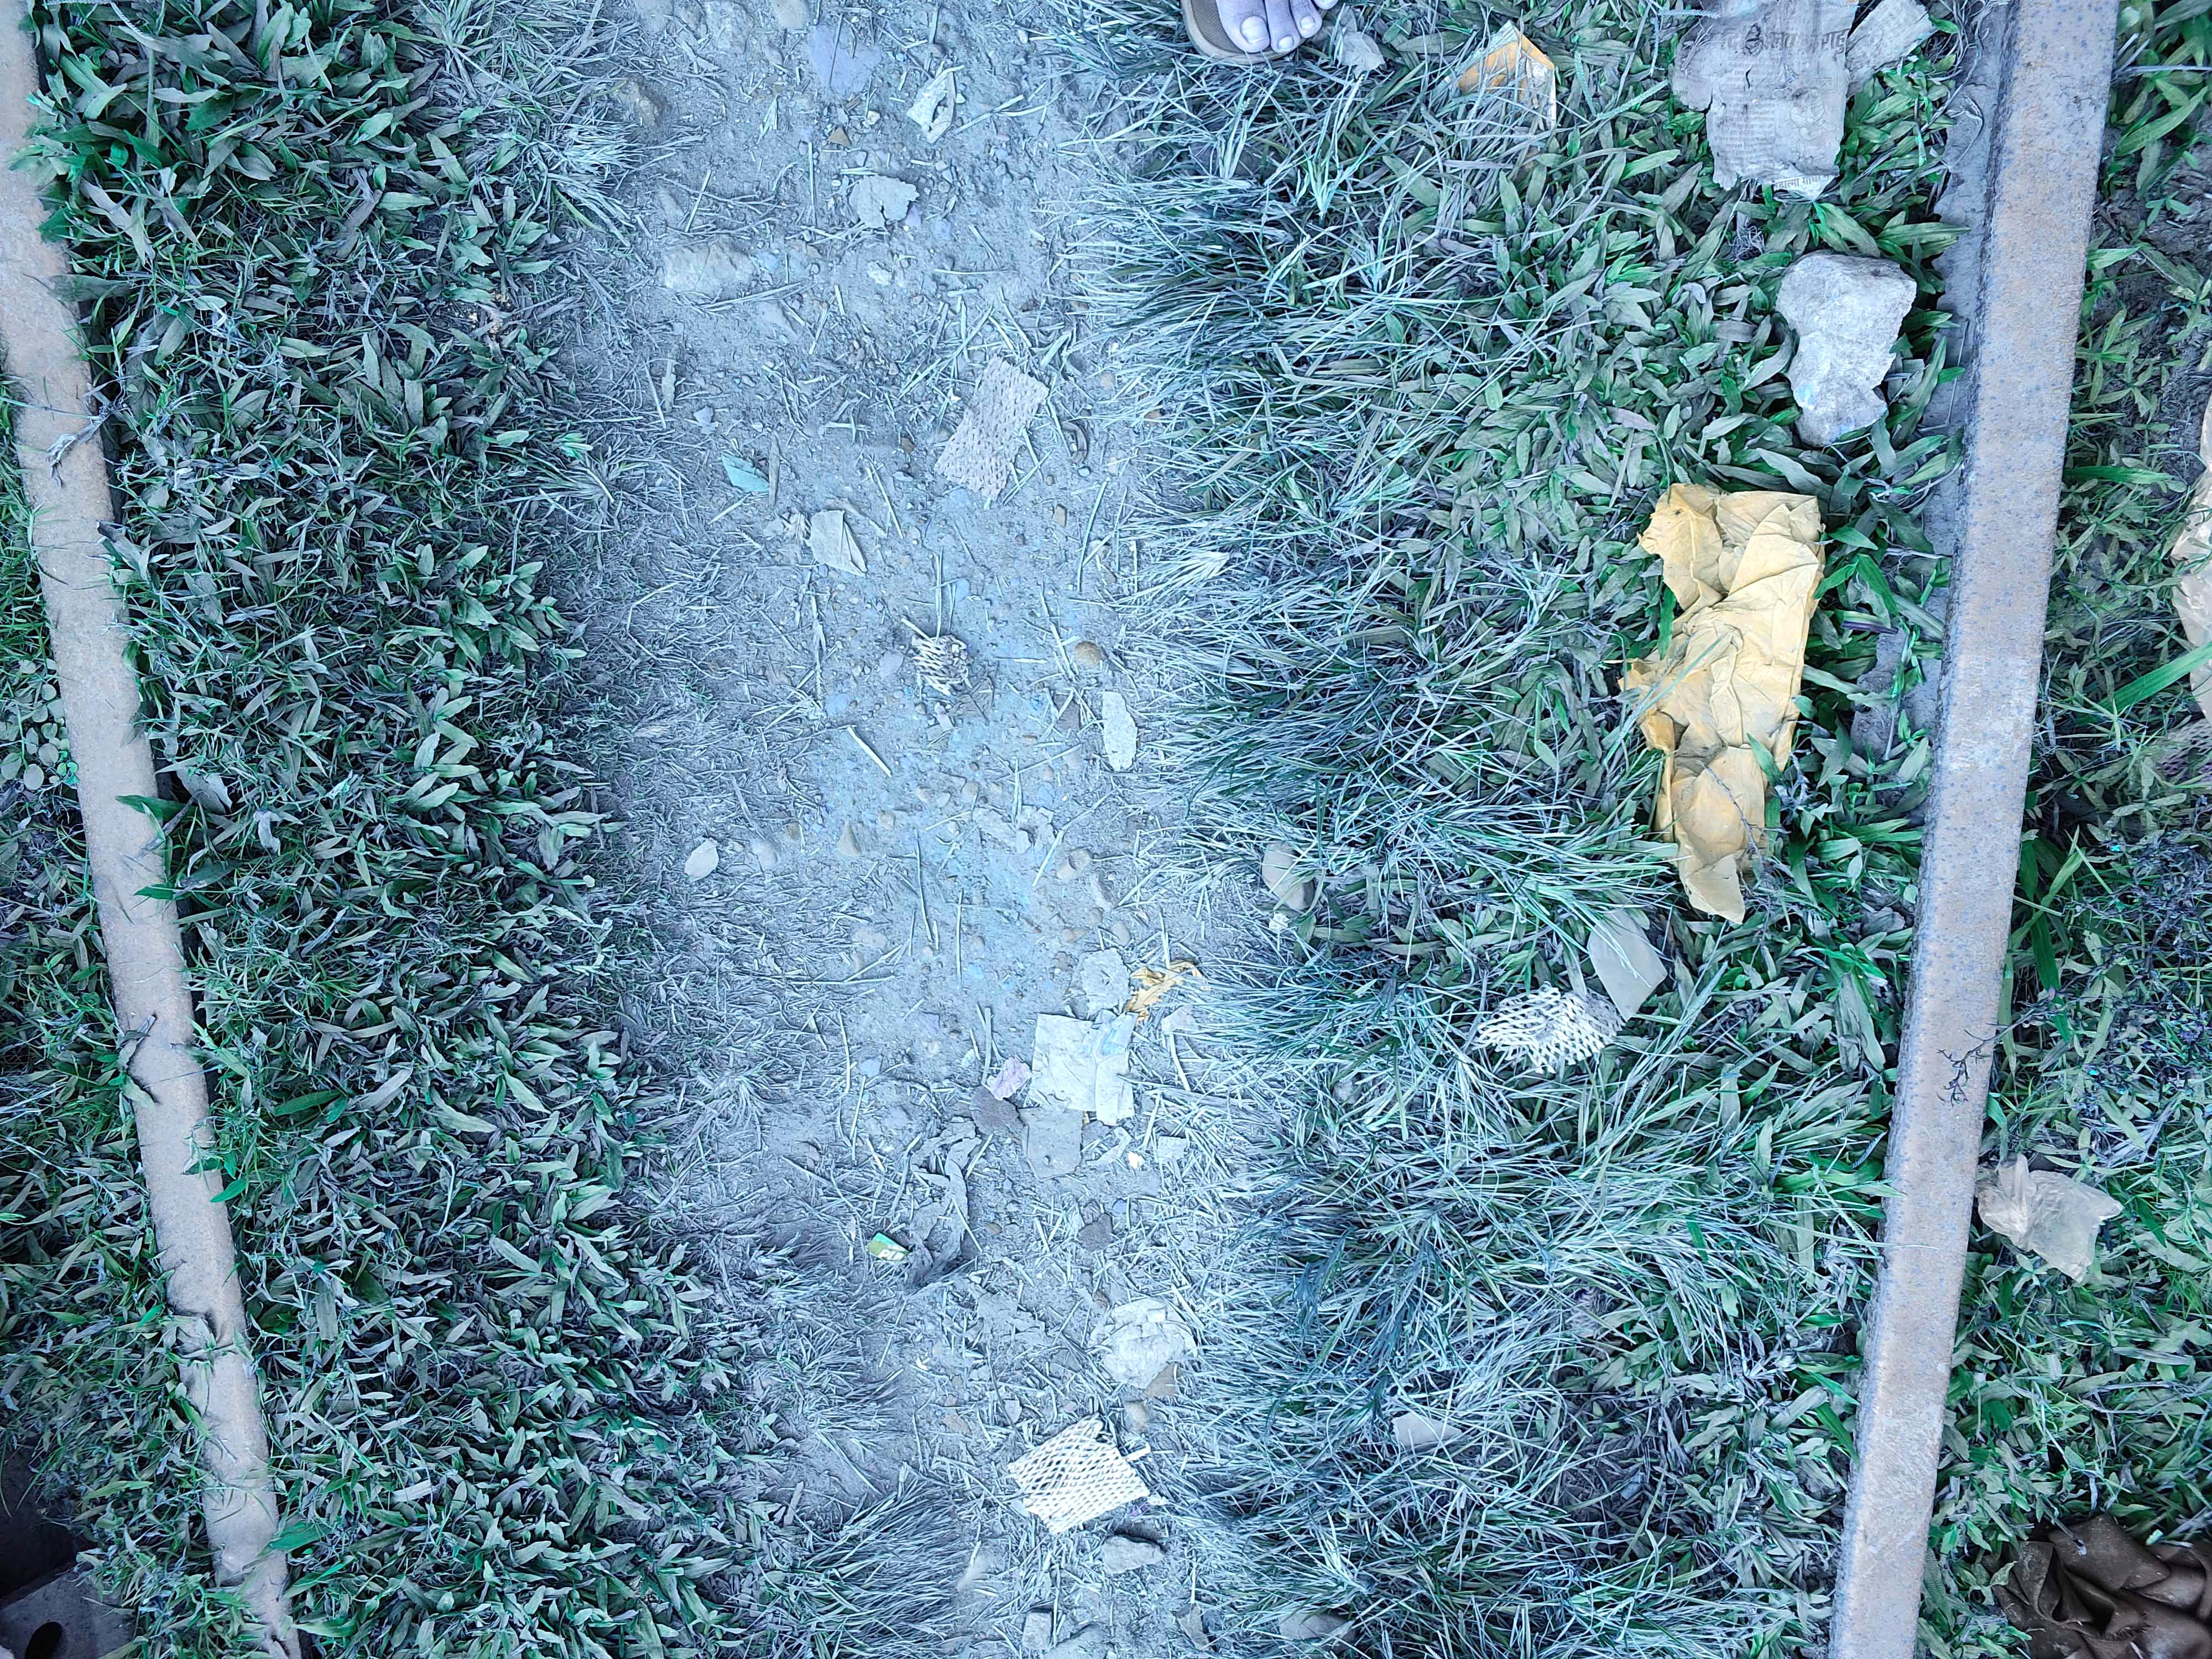error3: (1959, 70, 2102, 577)
